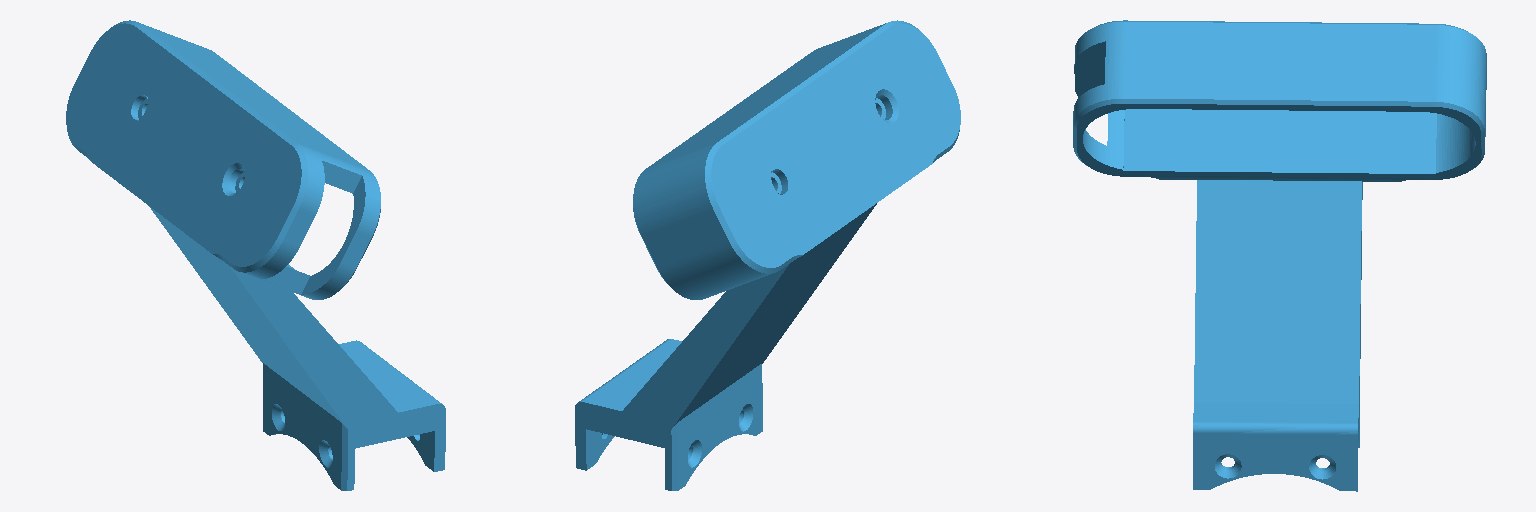
robot.urdf — rebot_wrist_d435i:
<?xml version="1.0"?>
<!-- Generated by scripts/build-wrist-camera-urdfs.py; see ../README.md. -->
<robot name="rebot_wrist_d435i">
  <link name="gripper_end" />
  <material name="aluminum">
    <color rgba="0.5 0.5 0.5 1" />
  </material>
  <material name="plastic">
    <color rgba="0.1 0.1 0.1 1" />
  </material>
  <link name="camera_mount_link">
    <visual>
      <origin rpy="0 0 0" xyz="0 0 0" />
      <geometry>
        <mesh filename="../meshes/mounts/D435_Gemini2_Mount.stl" scale="0.001 0.001 0.001" />
      </geometry>
    </visual>
  </link>
  <joint name="gripper_to_mount" type="fixed">
    <parent link="gripper_end" />
    <child link="camera_mount_link" />
    <origin rpy="1.5827 0.0024 1.5515" xyz="-0.1201 0.0003 0.0450" />
  </joint>
  <joint name="camera_joint" type="fixed">
    <origin rpy="0.0126 -1.0489 -1.5981" xyz="-0.0003 0.0445 -0.0095" />
    <parent link="camera_mount_link" />
    <child link="camera_bottom_screw_frame" />
  </joint>
  <link name="camera_bottom_screw_frame" />
  <joint name="camera_link_joint" type="fixed">
    <origin rpy="0 0 0" xyz="0.010600000000000002 0.0175 0.0125" />
    <parent link="camera_bottom_screw_frame" />
    <child link="camera_link" />
  </joint>
  <link name="camera_link">
    <visual>
      <origin rpy="1.5707963267948966 0 1.5707963267948966" xyz="0.0043 -0.0175 0" />
      <geometry>
        <mesh filename="../meshes/realsense/d435.dae" />
      </geometry>
    </visual>
    <collision>
      <origin rpy="0 0 0" xyz="0 -0.0175 0" />
      <geometry>
        <box size="0.02505 0.09 0.025" />
      </geometry>
    </collision>
    <inertial>
      <mass value="0.072" />
      <origin xyz="0 0 0" />
      <inertia ixx="0.003881243" ixy="0.0" ixz="0.0" iyy="0.000498940" iyz="0.0" izz="0.003879257" />
    </inertial>
  </link>
  <joint name="camera_depth_joint" type="fixed">
    <origin rpy="0 0 0" xyz="0 0 0" />
    <parent link="camera_link" />
    <child link="camera_depth_frame" />
  </joint>
  <link name="camera_depth_frame" />
  <joint name="camera_depth_optical_joint" type="fixed">
    <origin rpy="-1.5707963267948966 0 -1.5707963267948966" xyz="0 0 0" />
    <parent link="camera_depth_frame" />
    <child link="camera_depth_optical_frame" />
  </joint>
  <link name="camera_depth_optical_frame" />
  <joint name="camera_infra1_joint" type="fixed">
    <origin rpy="0 0 0" xyz="0 0.0 0" />
    <parent link="camera_link" />
    <child link="camera_infra1_frame" />
  </joint>
  <link name="camera_infra1_frame" />
  <joint name="camera_infra1_optical_joint" type="fixed">
    <origin rpy="-1.5707963267948966 0 -1.5707963267948966" xyz="0 0 0" />
    <parent link="camera_infra1_frame" />
    <child link="camera_infra1_optical_frame" />
  </joint>
  <link name="camera_infra1_optical_frame" />
  <joint name="camera_infra2_joint" type="fixed">
    <origin rpy="0 0 0" xyz="0 -0.05 0" />
    <parent link="camera_link" />
    <child link="camera_infra2_frame" />
  </joint>
  <link name="camera_infra2_frame" />
  <joint name="camera_infra2_optical_joint" type="fixed">
    <origin rpy="-1.5707963267948966 0 -1.5707963267948966" xyz="0 0 0" />
    <parent link="camera_infra2_frame" />
    <child link="camera_infra2_optical_frame" />
  </joint>
  <link name="camera_infra2_optical_frame" />
  <joint name="camera_color_joint" type="fixed">
    <origin rpy="0 0 0" xyz="0 0.015 0" />
    <parent link="camera_link" />
    <child link="camera_color_frame" />
  </joint>
  <link name="camera_color_frame" />
  <joint name="camera_color_optical_joint" type="fixed">
    <origin rpy="-1.5707963267948966 0 -1.5707963267948966" xyz="0 0 0" />
    <parent link="camera_color_frame" />
    <child link="camera_color_optical_frame" />
  </joint>
  <link name="camera_color_optical_frame" />
  <link name="camera_accel_frame" />
  <link name="camera_accel_optical_frame" />
  <link name="camera_gyro_frame" />
  <link name="camera_gyro_optical_frame" />
  <joint name="camera_accel_joint" type="fixed">
    <origin rpy="0 0 0" xyz="-0.01174 -0.00552 0.0051" />
    <parent link="camera_link" />
    <child link="camera_accel_frame" />
  </joint>
  <joint name="camera_accel_optical_joint" type="fixed">
    <origin rpy="-1.5707963267948966 0 -1.5707963267948966" xyz="0 0 0" />
    <parent link="camera_accel_frame" />
    <child link="camera_accel_optical_frame" />
  </joint>
  <joint name="camera_gyro_joint" type="fixed">
    <origin rpy="0 0 0" xyz="-0.01174 -0.00552 0.0051" />
    <parent link="camera_link" />
    <child link="camera_gyro_frame" />
  </joint>
  <joint name="camera_gyro_optical_joint" type="fixed">
    <origin rpy="-1.5707963267948966 0 -1.5707963267948966" xyz="0 0 0" />
    <parent link="camera_gyro_frame" />
    <child link="camera_gyro_optical_frame" />
  </joint>
</robot>

--- What the picture shows (computed from the rendered views, not written in the file) ---
The picture shows the robot from 3 angles, left to right: view 1: azimuth 30°, elevation 25°; view 2: azimuth 150°, elevation 25°; view 3: azimuth 270°, elevation 25°; orthographic projection.
Model rebot_wrist_d435i with 16 links and 15 joints (15 fixed), rooted at gripper_end, posed all joints at 0.
Visible links, largest first — view 1: camera_mount_link; view 2: camera_mount_link; view 3: camera_mount_link.
Boxes of the visible links, box(x1,y1,x2,y2) form: camera_mount_link: box(66, 20, 445, 490); camera_mount_link: box(575, 20, 960, 490); camera_mount_link: box(1073, 20, 1486, 491).
Bounding box of the posed robot: 0.0652 × 0.0962 × 0.0981 m (x, y, z).
1 mesh visuals loaded from 2 distinct referenced files (1 binary STL); not drawn: 1 (reference not matched to a file when rendering).
